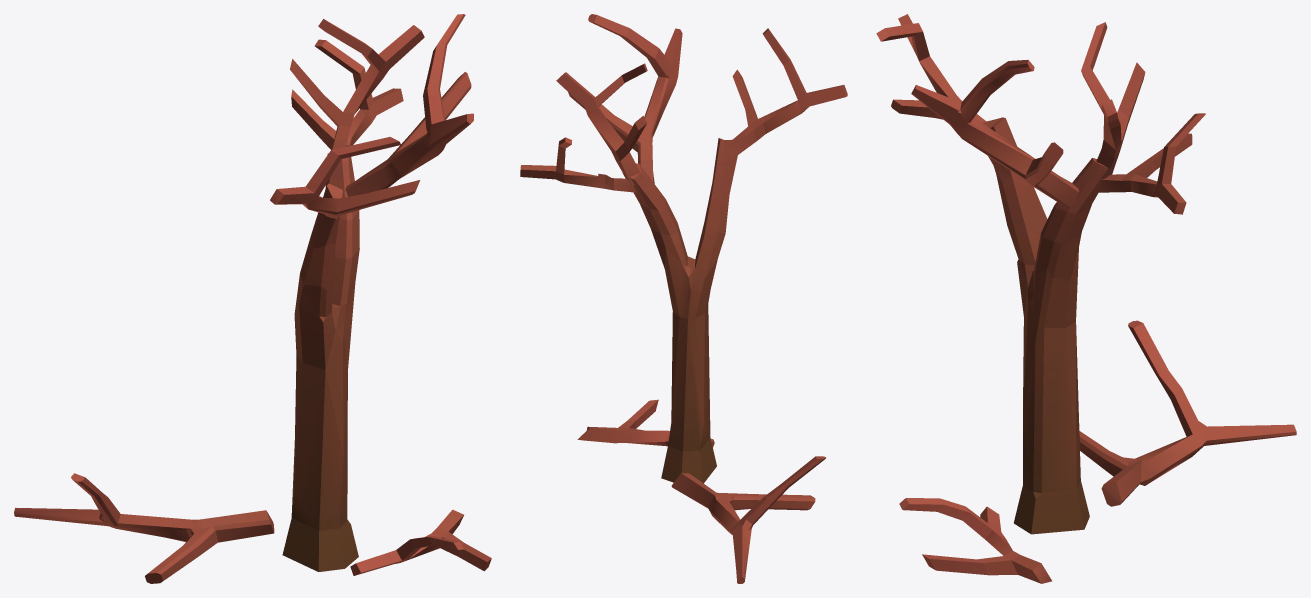
3 views of the same model, side by side, from view 1: azimuth 30°, elevation 25°; view 2: azimuth 150°, elevation 25°; view 3: azimuth 270°, elevation 25° (orthographic). The views are drawn at different scales.
Visible parts, largest first — view 1: TreeDead2; view 2: TreeDead2; view 3: TreeDead2.
Boxes of the visible parts, x1,y1,x2,y2 form: TreeDead2: (14,14,491,583); TreeDead2: (520,14,847,583); TreeDead2: (876,14,1296,583).
Bounding box in the file's own units: 4.02 × 5.66 × 4.1.
1 material, 1 textured.
